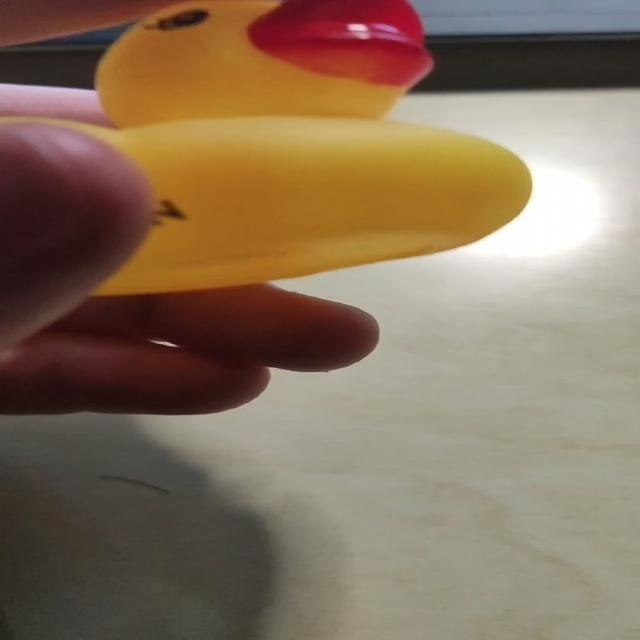rubber-duck: (51, 0, 529, 293)
